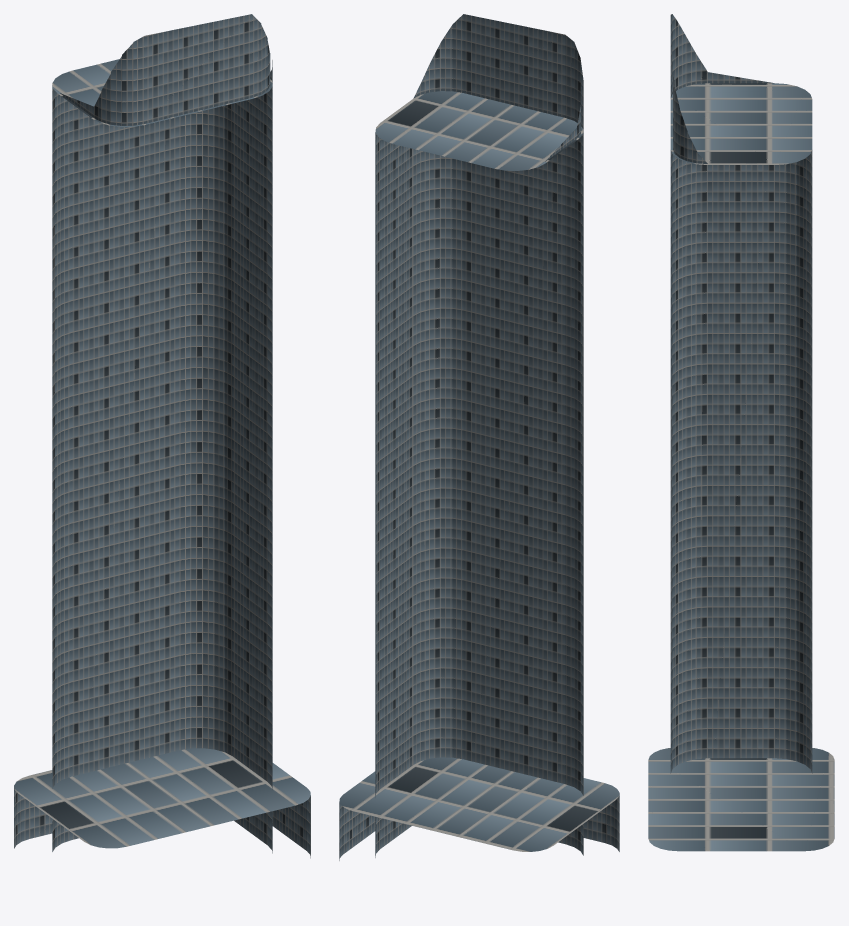
The model's file is soul_tower.glb.
3 views of the same model, side by side, from view 1: azimuth 30°, elevation 25°; view 2: azimuth 150°, elevation 25°; view 3: azimuth 270°, elevation 25° (orthographic). The views are drawn at different scales.
Parts seen in each view (by area): view 1: geometry_0; view 2: geometry_0; view 3: geometry_0.
Boxes of the visible parts, bbox=[...] form: geometry_0: bbox=[14, 14, 310, 858]; geometry_0: bbox=[339, 14, 619, 860]; geometry_0: bbox=[648, 14, 834, 851].
Size of the model in its own units: 66 by 243 by 50.
1 material, 1 textured.
